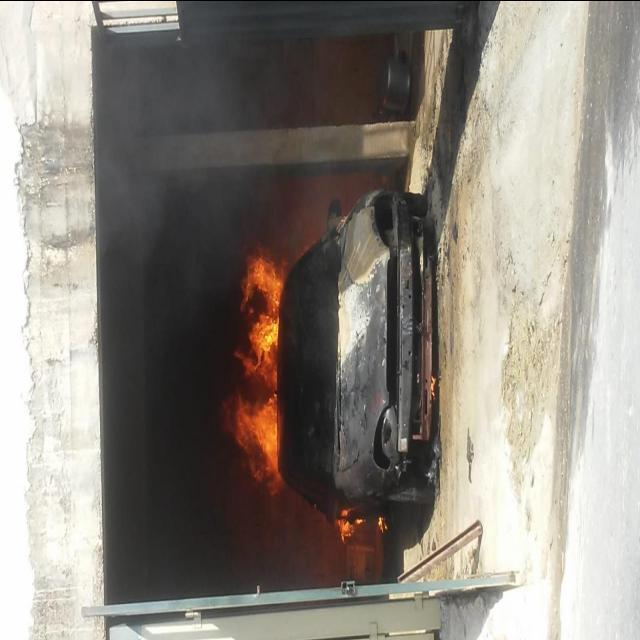Fire: (217, 249, 284, 492), (332, 508, 360, 556)
